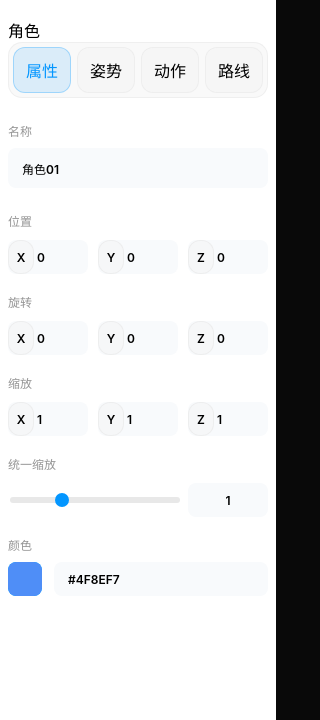
Test: recognizes embedded actions from older projects by matching the character file
Click the button "动作". click: (170, 70)
box: [141,47,199,93]
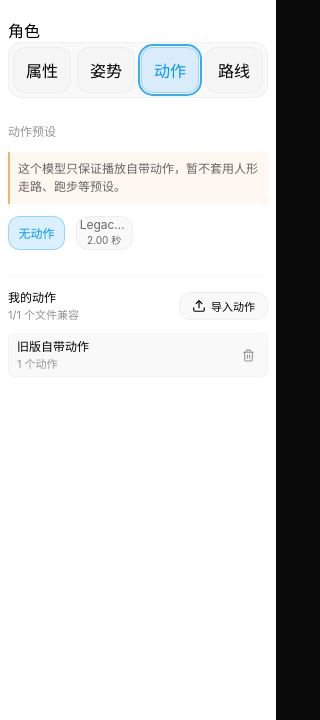
Now the button with aria-label "播放导入动作 旧版自带动作 · Legacy Clip" is shown, box [76,216,133,250]
